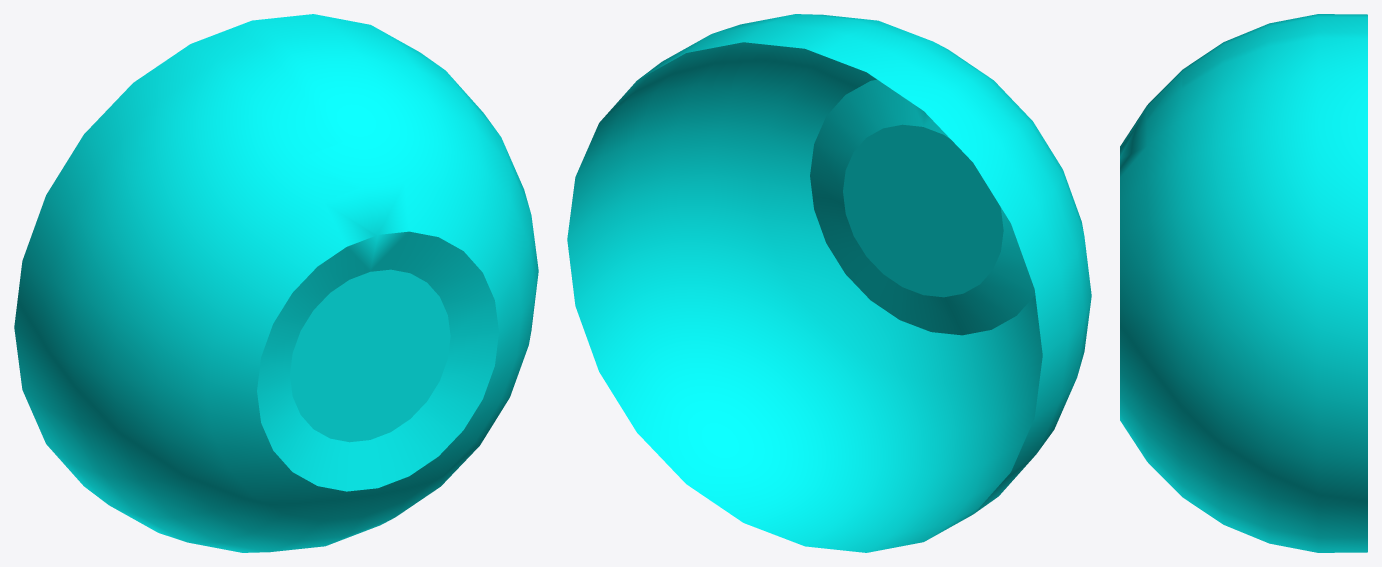
File: original-20.obj
The picture shows the model from 3 angles, left to right: view 1: azimuth 30°, elevation 25°; view 2: azimuth 150°, elevation 25°; view 3: azimuth 270°, elevation 25°; orthographic projection.
Parts seen in each view (by area): view 1: #ID85; view 2: #ID85; view 3: #ID85.
Part boxes in pixels (<box>): #ID85: <box>14,14,538,552</box>; #ID85: <box>567,14,1091,552</box>; #ID85: <box>1120,14,1367,552</box>.
Size of the model in its own units: 0.482 by 0.482 by 0.2208.
